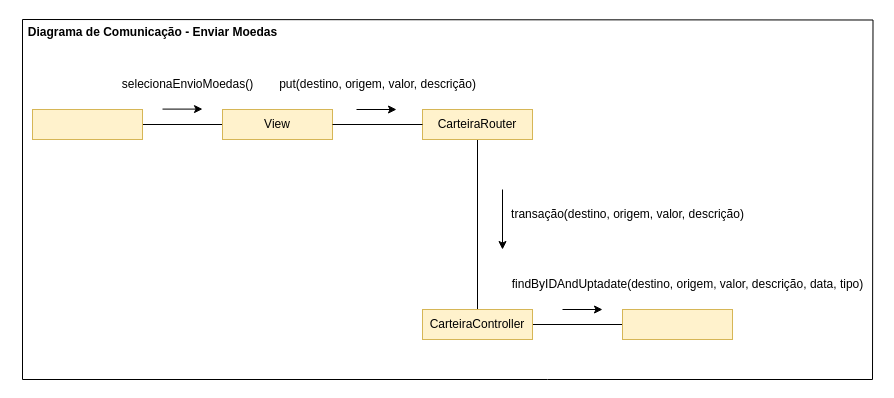
Some shapes in this 894 by 398 pixel diagram are drawn without their labels. The centre of each missing label's shape, as x and y in pixels:
CarteiraModel: the point at 677,324
Professor: the point at 87,124
